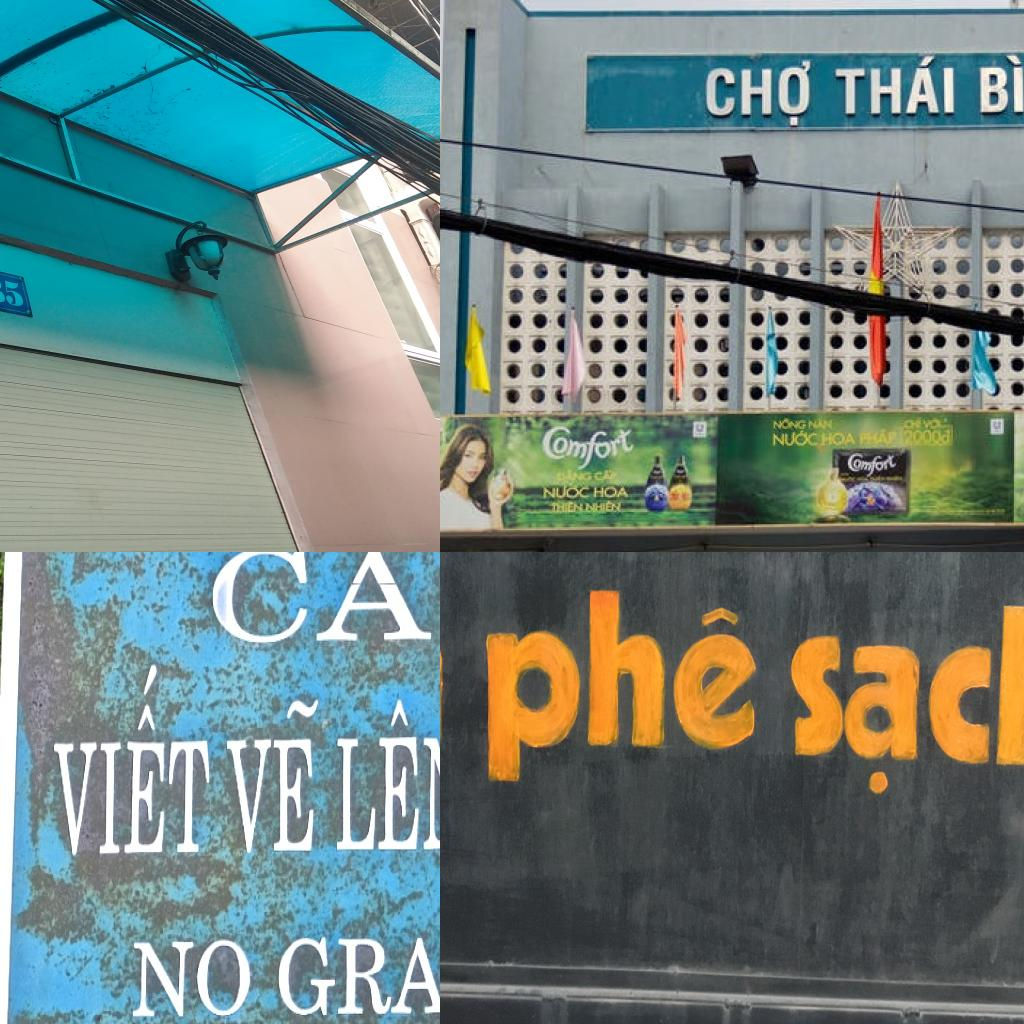text: (475, 565, 755, 789), (51, 656, 214, 864), (210, 552, 440, 655), (220, 672, 328, 864), (332, 694, 440, 861), (128, 917, 259, 1024), (704, 59, 816, 130), (834, 54, 958, 118), (536, 423, 638, 471), (977, 54, 1024, 116), (845, 453, 902, 477), (769, 429, 822, 449), (542, 484, 592, 502), (900, 429, 944, 447), (820, 432, 860, 449), (858, 431, 898, 447), (591, 485, 631, 500), (583, 500, 622, 515), (770, 417, 808, 430), (548, 502, 584, 515), (941, 429, 954, 449), (695, 423, 707, 433)
